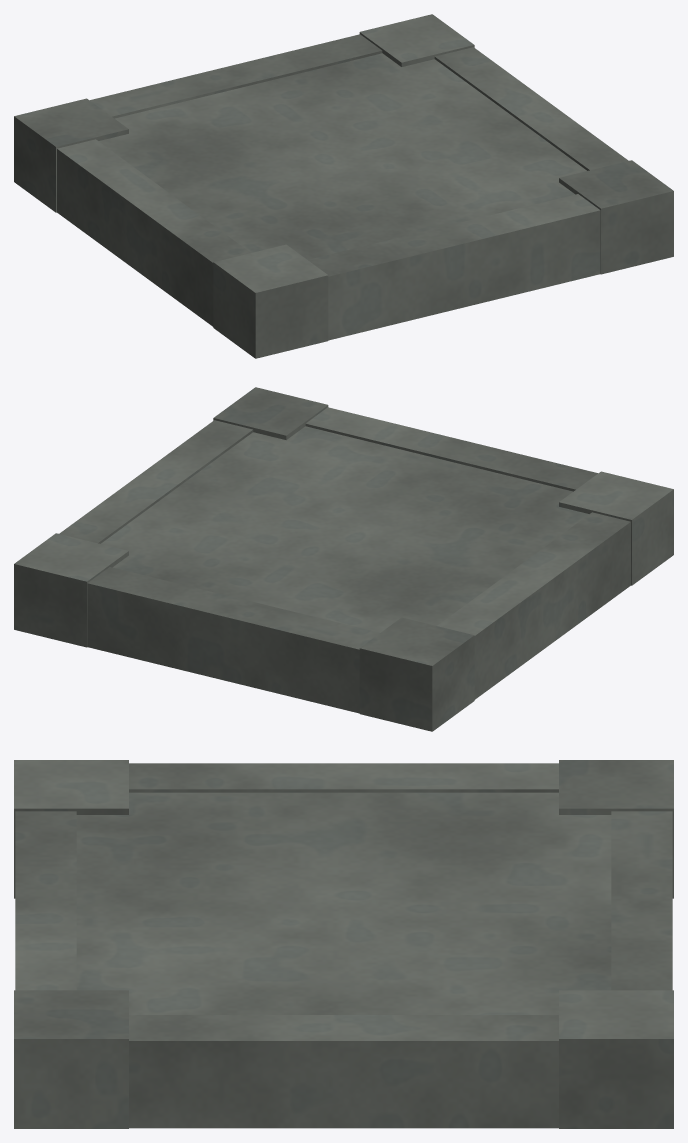
The model's file is Platform.fbx.
3 views of the same model, one above another, from view 1: azimuth 30°, elevation 25°; view 2: azimuth 150°, elevation 25°; view 3: azimuth 270°, elevation 25° (orthographic). The views are drawn at different scales.
Visible parts, largest first — view 1: Platform.001; view 2: Platform.001; view 3: Platform.001.
Part boxes in pixels (<box>): Platform.001: <box>14,14,673,358</box>; Platform.001: <box>14,387,673,731</box>; Platform.001: <box>14,760,673,1128</box>.
Size of the model in its own units: 4.42 by 0.6643 by 4.42.
1 material, 1 textured.
